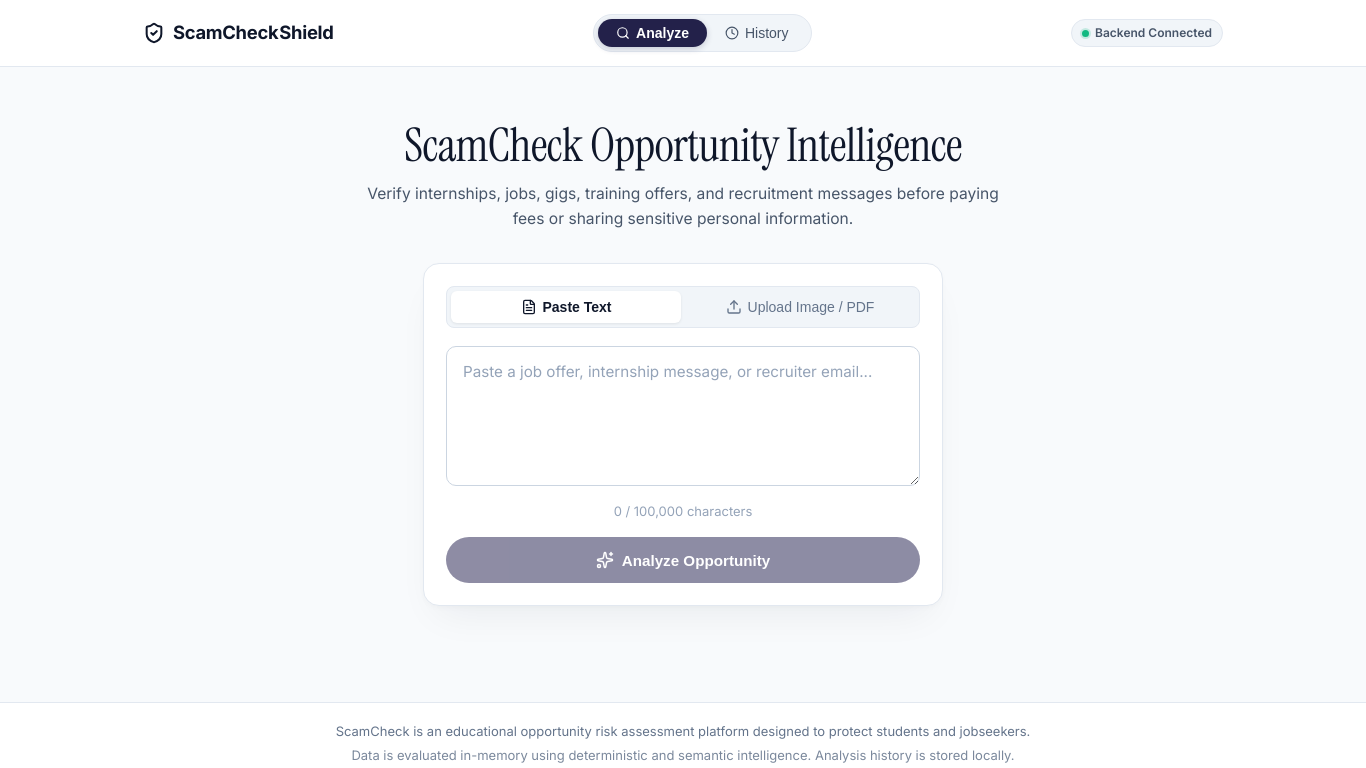
Test: ScamCheck Frontend End-to-End Unit & Integration Test Suite › 9. renders low risk level badge and low score gauge
This screenshot has width=1366, height=768.
Type "Google career post" into the text box with placeholder "Paste a job offer" at [683, 416], box top-left (446, 346), bottom-right (920, 486)
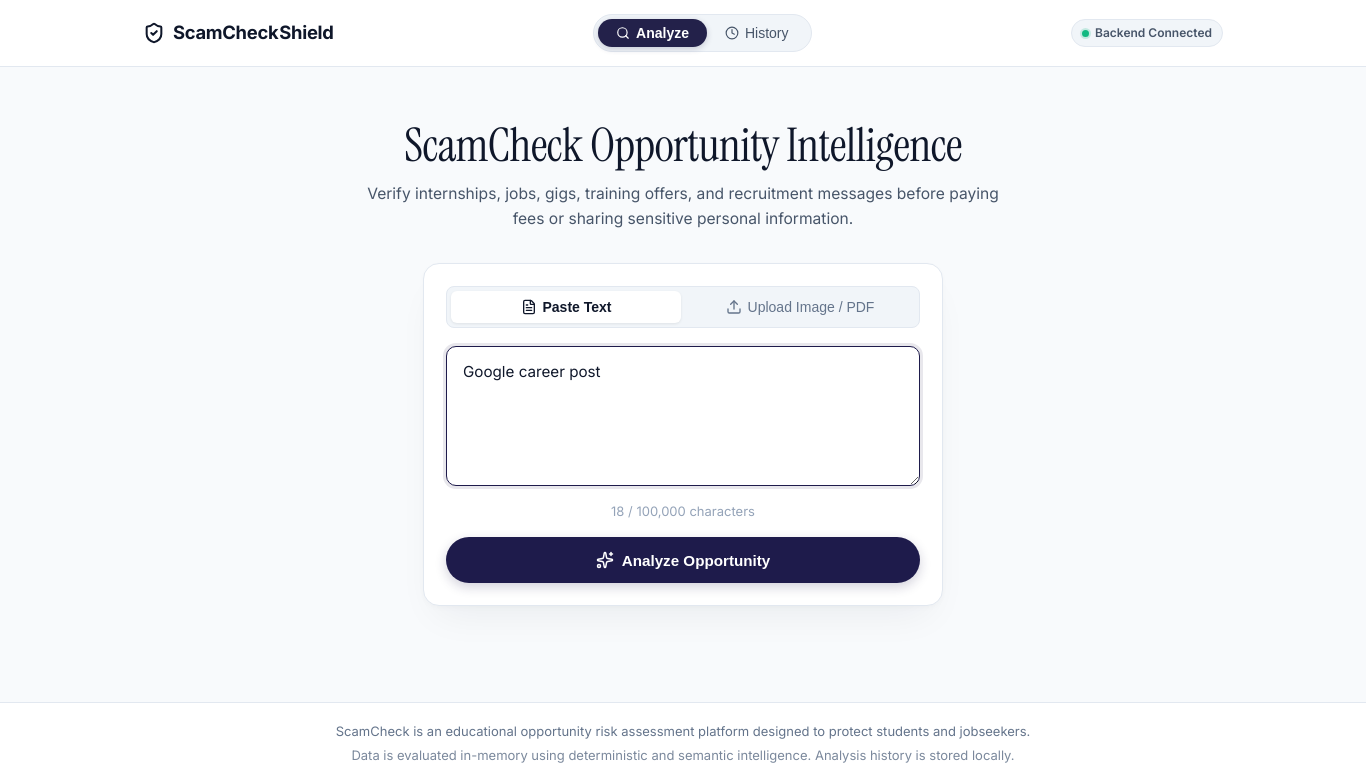
Click the button "Analyze Opportunity" at [683, 560], box top-left (446, 537), bottom-right (920, 583)
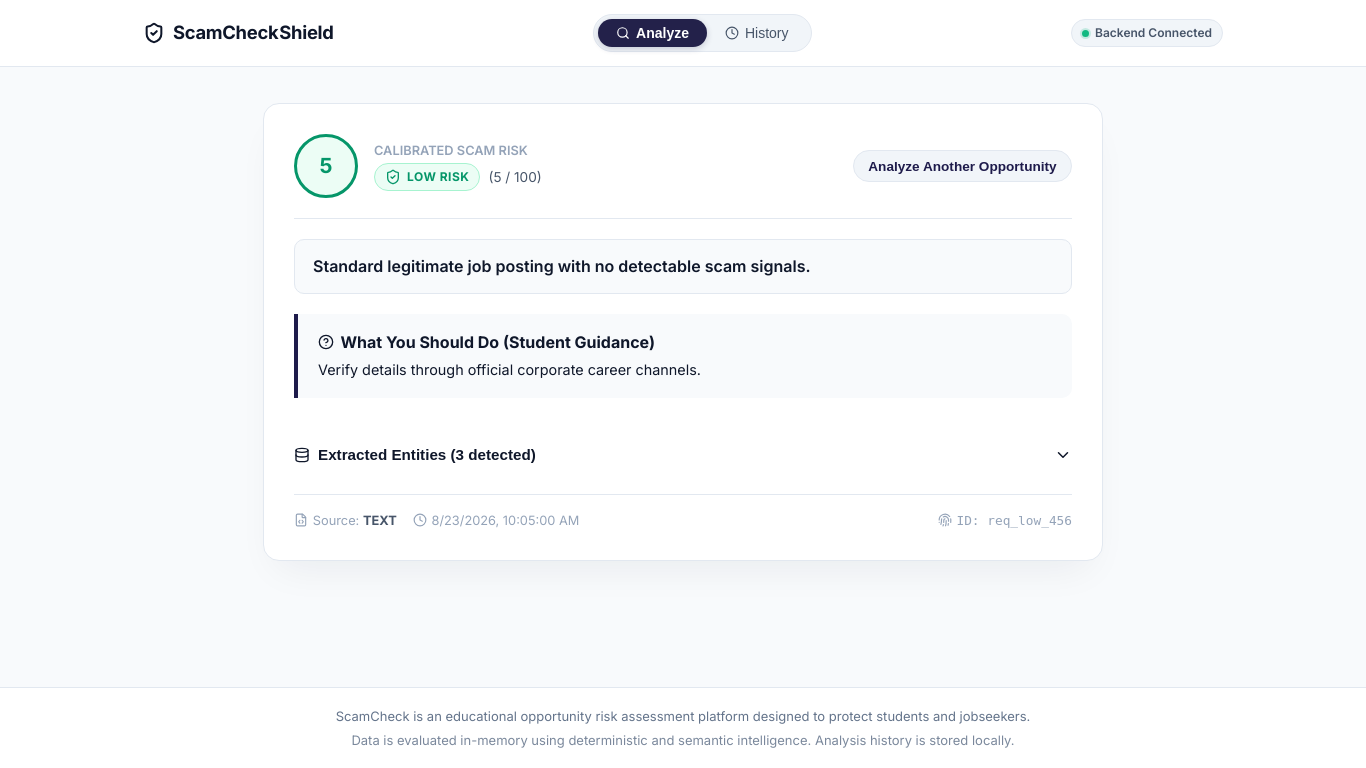
Check: the progress indicator named "Risk score: 5" is shown, box top-left (294, 134), bottom-right (358, 198)
Check: the text "LOW RISK" is shown, box top-left (407, 168), bottom-right (469, 186)
